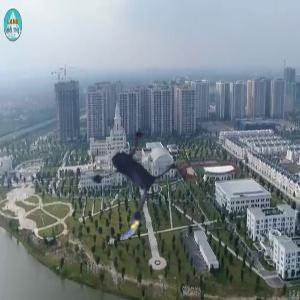drone: (61, 115, 189, 243)
